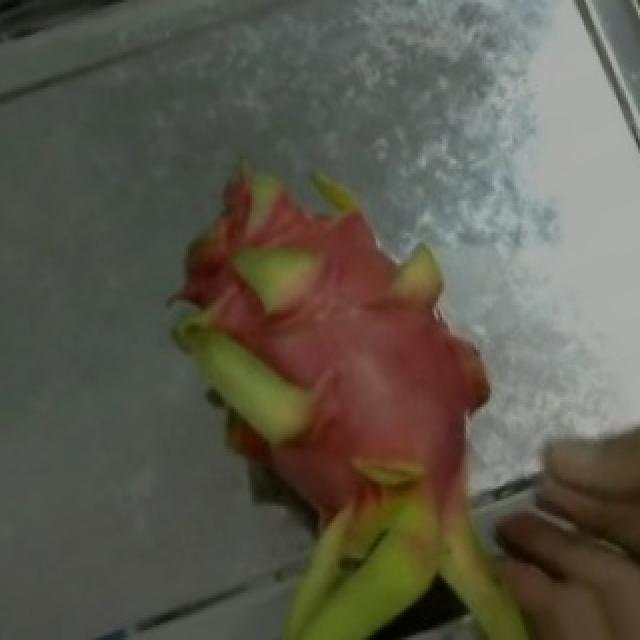fruit: (86, 104, 518, 563)
